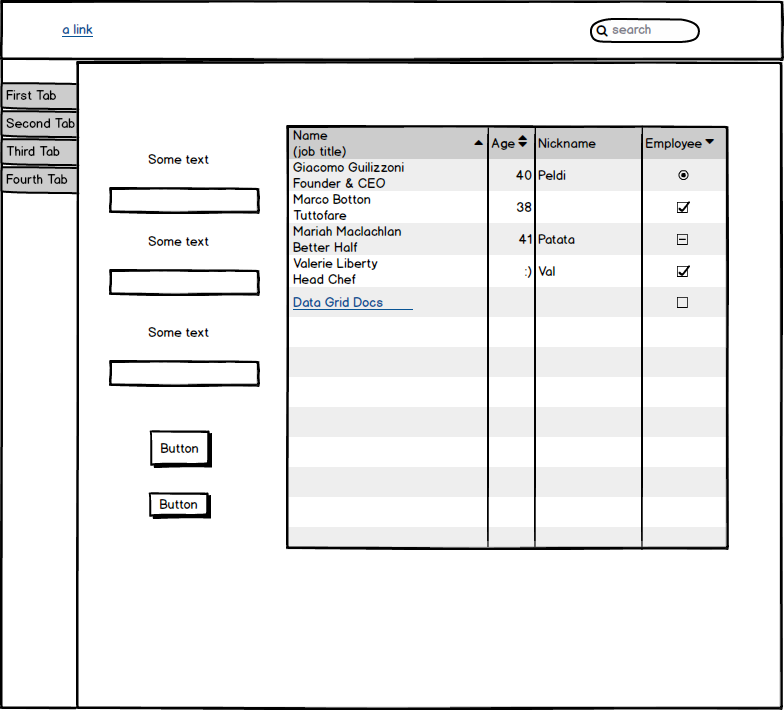button: (142, 426, 217, 472), (145, 488, 218, 522)
input: (104, 356, 267, 393), (105, 264, 268, 300), (102, 183, 267, 218)
label: (137, 145, 215, 170), (140, 232, 223, 253), (146, 319, 213, 342)
navlink: (55, 19, 102, 45)
search: (585, 13, 704, 47)
sidebar: (2, 74, 81, 198)
table: (282, 119, 738, 555)
